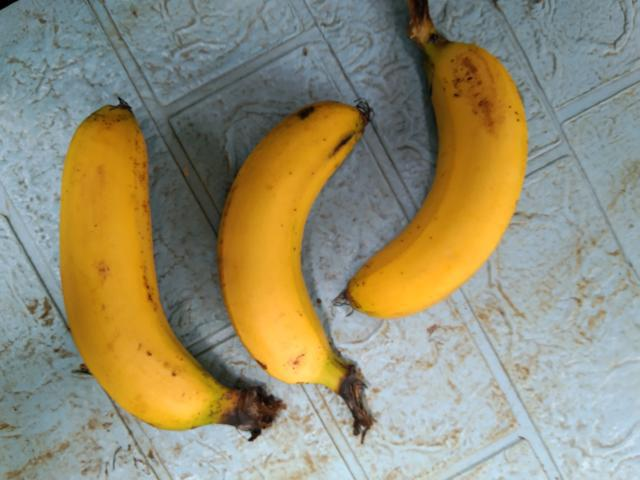freshripe: (49, 92, 255, 432), (321, 29, 549, 332), (191, 74, 395, 410)
